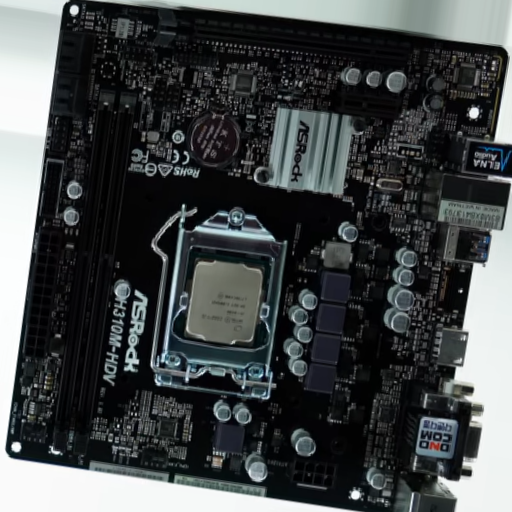CPU: (160, 208, 280, 379)
GPU: (151, 9, 413, 69)
MOTHERBOARD: (8, 1, 506, 508)
RAM: (55, 87, 138, 459)
